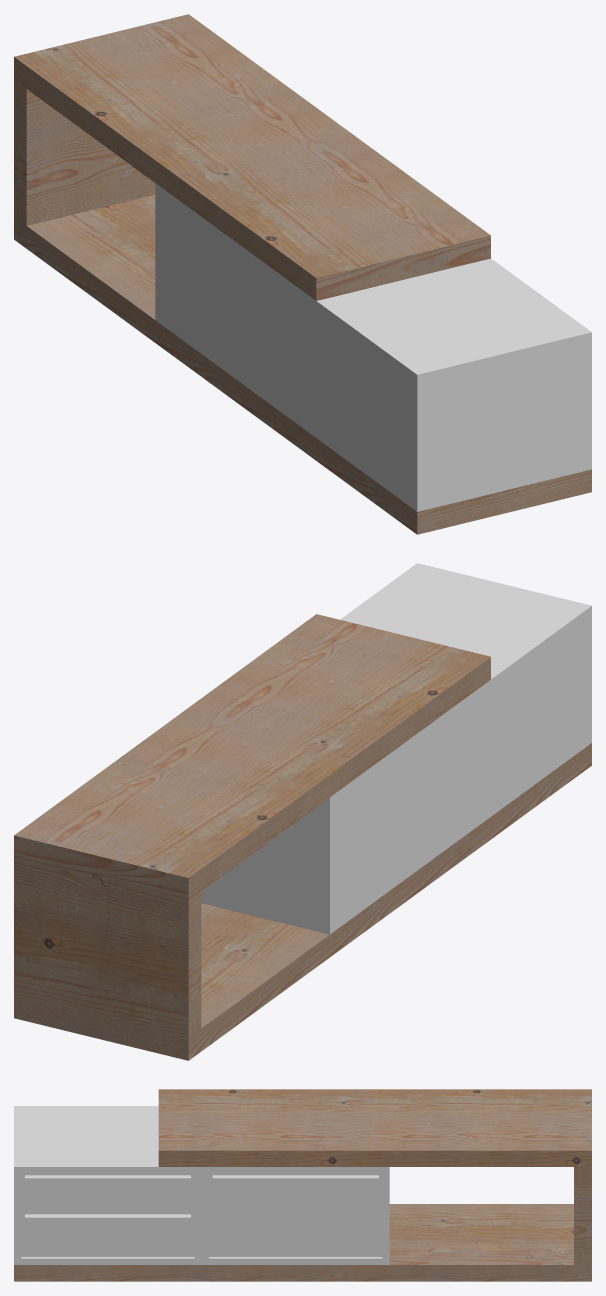
The model's file is tvShelve-transformed.glb.
3 views of the same model, one above another, from view 1: azimuth 30°, elevation 25°; view 2: azimuth 150°, elevation 25°; view 3: azimuth 270°, elevation 25° (orthographic). The views are drawn at different scales.
Visible parts, largest first — view 1: uploads_files_4201386_tv+stand; view 2: uploads_files_4201386_tv+stand; view 3: uploads_files_4201386_tv+stand.
Part boxes in pixels (box(x1,y1,x2,y2)): uploads_files_4201386_tv+stand: box(14, 14, 591, 534); uploads_files_4201386_tv+stand: box(14, 563, 591, 1060); uploads_files_4201386_tv+stand: box(14, 1089, 591, 1281).
Size of the model in its own units: 0.41 by 0.4 by 1.6.
Materials: 2 (1 with a texture image).
